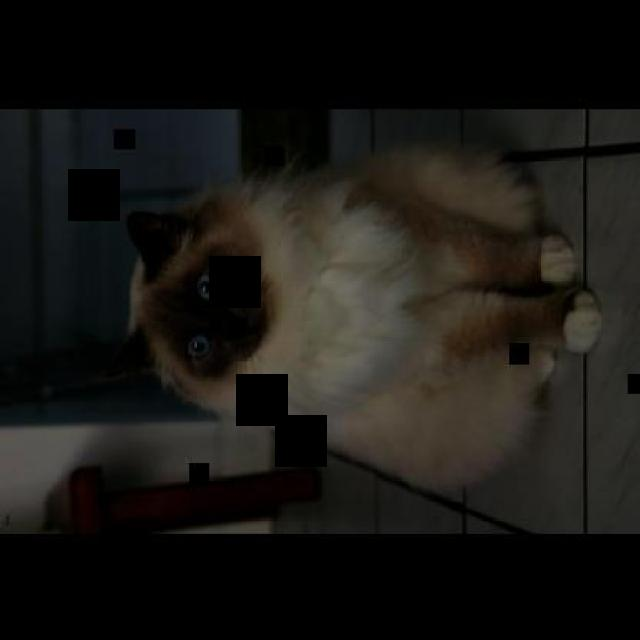unauthorized: (121, 138, 602, 497)
